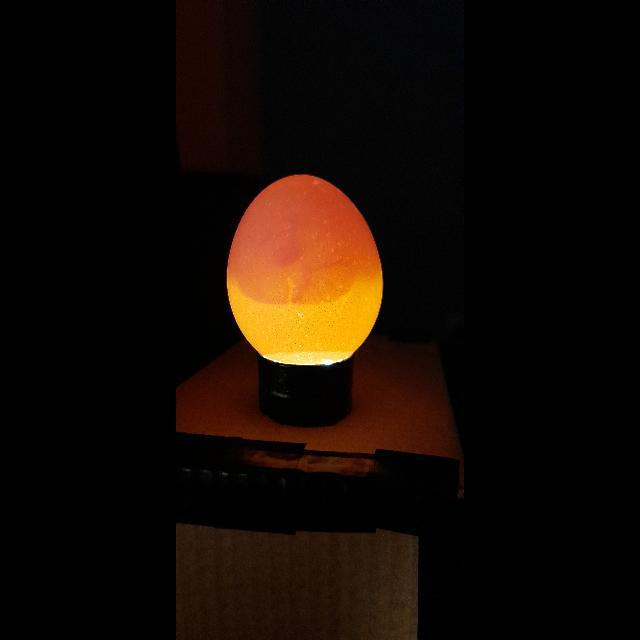Fertile: (223, 176, 389, 368)
